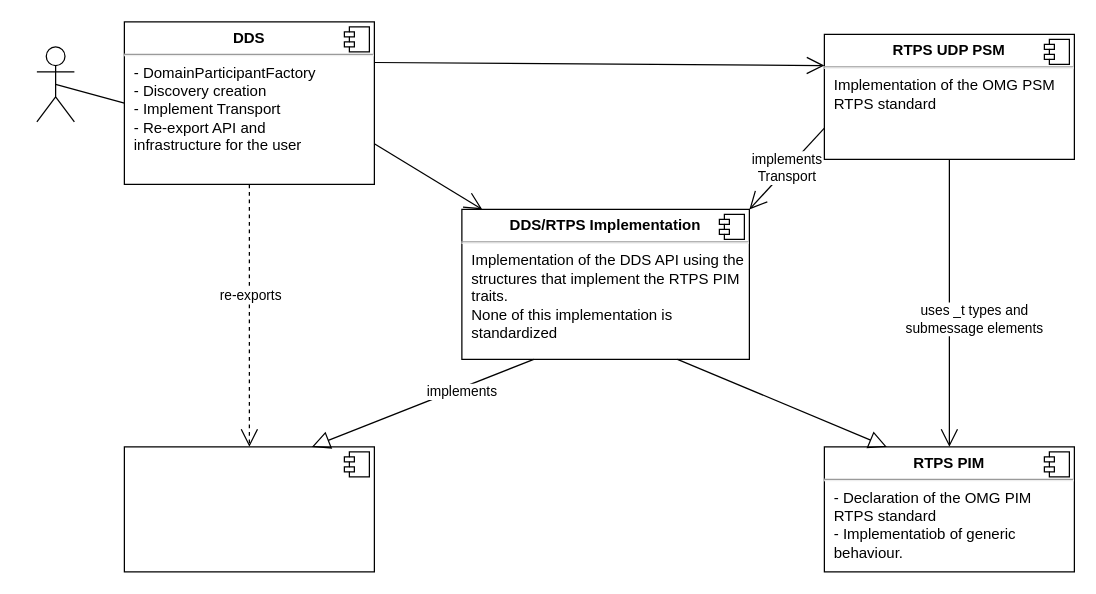
This 1096x594 diagram has some shape labels left out. Each missing label, with the centre of its shape:
"DDS API API and infrastructure definition according to the OMG DDS standard" goes at [248,509].
"DDS User" goes at [55,84].
